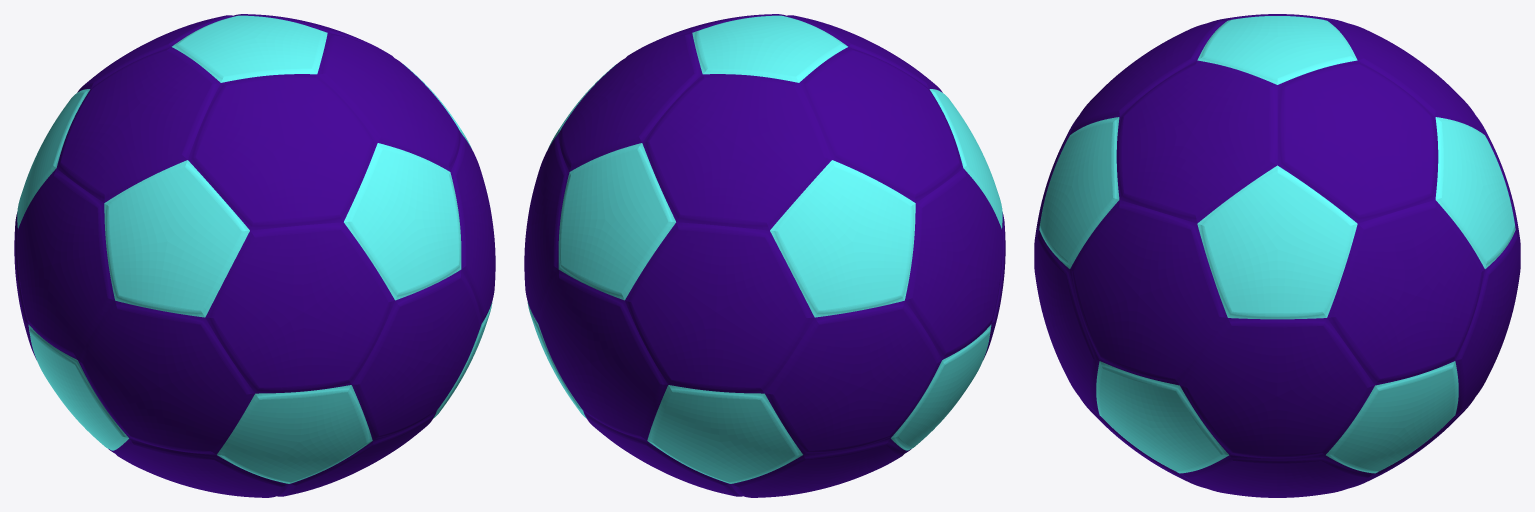
File: topmavimor.fbx
The picture shows the model from 3 angles, left to right: view 1: azimuth 30°, elevation 25°; view 2: azimuth 150°, elevation 25°; view 3: azimuth 270°, elevation 25°; orthographic projection.
Visible parts, largest first — view 1: Icosphere; view 2: Icosphere; view 3: Icosphere.
Boxes of the visible parts, <box> form: Icosphere: <box>14,14,495,497</box>; Icosphere: <box>524,14,1005,497</box>; Icosphere: <box>1034,14,1520,497</box>.
Size of the model in its own units: 175 by 175 by 176.
